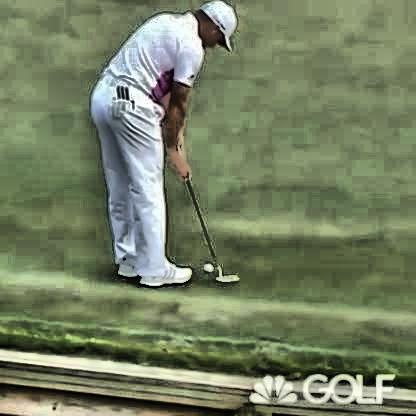golfball: (202, 256, 212, 269)
